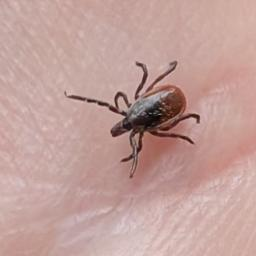Ixodes scapularis: (62, 60, 201, 178)
